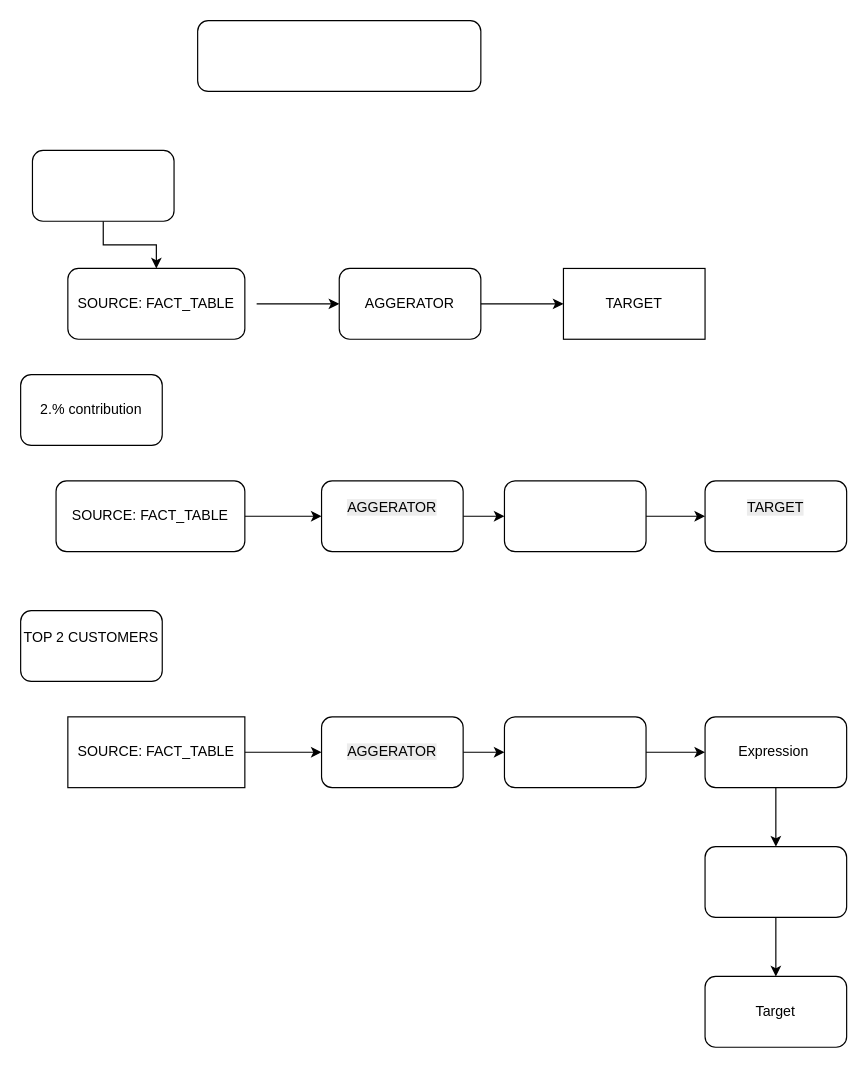
Some shapes in this 867 by 1068 pixel diagram are drawn without their labels. The centre of each missing label's shape, as x and y in pixels:
1.REVENUE PER CUSTOMER: the point at 102,185
EXPERSSION: the point at 574,516
Filter: the point at 775,881
Sorter: the point at 574,752
USE CASE 4:REVENUE DATA: the point at 338,55
